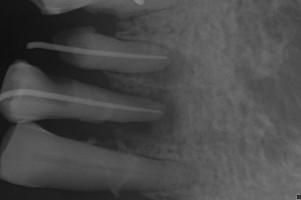Dental Caries: (105, 73, 187, 156)
Furcation Involvement: (135, 49, 195, 84)
